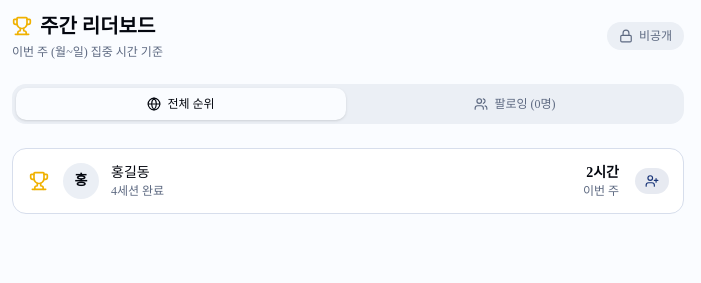
it: LeaderboardClient › 팔로잉 탭 빈 상태: 적절한 안내 메시지를 표시한다
This screenshot has width=701, height=283.
Click the button "팔로잉 (0명)": (515, 104) [350,88,680,120]
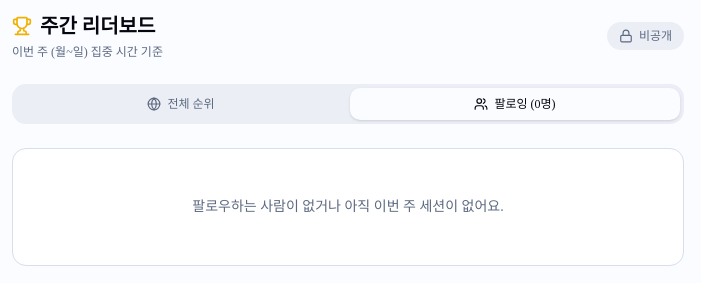
Check: the text "팔로우하는 사람이 없거나 아직 이번 주 세션이 없어요." is shown, box [12,148,684,266]
